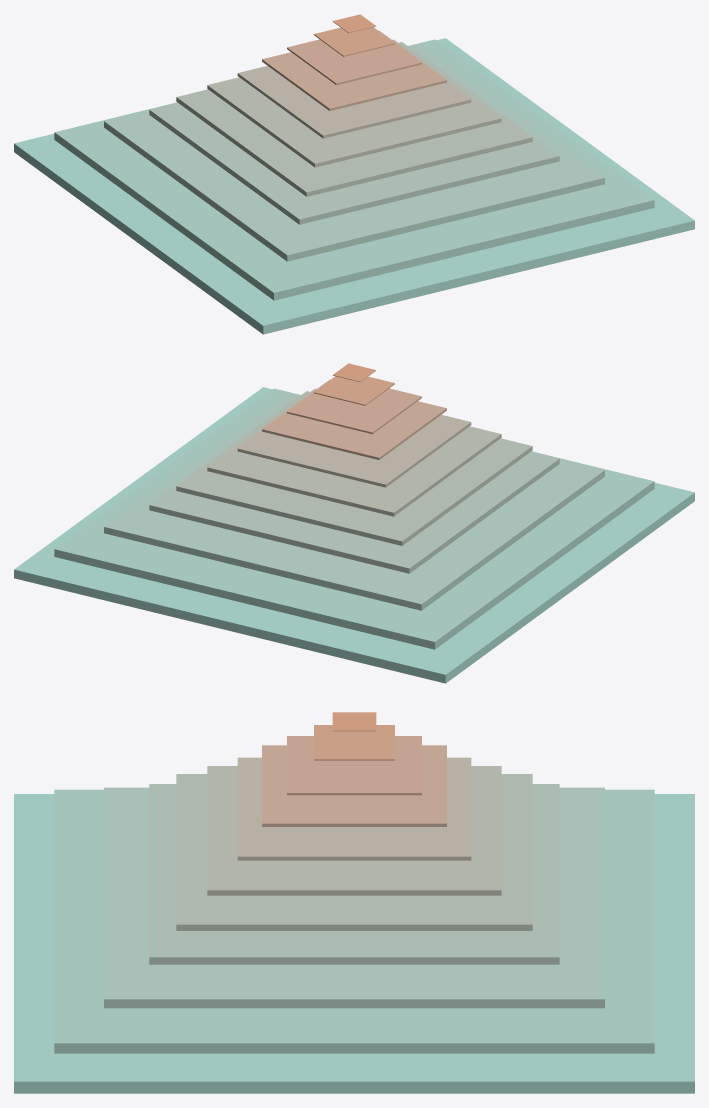
File: building01.fbx
3 views of the same model, one above another, from view 1: azimuth 30°, elevation 25°; view 2: azimuth 150°, elevation 25°; view 3: azimuth 270°, elevation 25° (orthographic). The views are drawn at different scales.
Visible parts, largest first — view 1: pCube68, pCube67, pCube69, pCube70, pCube71, pCube72, pCube73, pCube74, pCube75, pCube76; view 2: pCube68, pCube67, pCube69, pCube70, pCube71, pCube72, pCube73, pCube74, pCube75, pCube76; view 3: pCube68, pCube67, pCube69, pCube70, pCube71, pCube72, pCube73, pCube74, pCube75, pCube76, pCube77.
Part boxes in pixels (bbox=[...]): pCube68: bbox=[54, 39, 654, 300]; pCube67: bbox=[14, 38, 694, 334]; pCube69: bbox=[104, 43, 604, 261]; pCube70: bbox=[149, 46, 559, 224]; pCube71: bbox=[176, 42, 532, 196]; pCube72: bbox=[207, 39, 501, 167]; pCube73: bbox=[237, 66, 471, 138]; pCube74: bbox=[262, 30, 446, 110]; pCube75: bbox=[287, 27, 421, 85]; pCube76: bbox=[314, 27, 394, 56]; pCube68: bbox=[54, 388, 654, 649]; pCube67: bbox=[14, 387, 694, 683]; pCube69: bbox=[104, 392, 604, 610]; pCube70: bbox=[149, 395, 559, 573]; pCube71: bbox=[176, 391, 532, 545]; pCube72: bbox=[207, 388, 501, 516]; pCube73: bbox=[237, 415, 471, 487]; pCube74: bbox=[262, 379, 446, 459]; pCube75: bbox=[287, 376, 421, 434]; pCube76: bbox=[314, 376, 394, 405]; pCube68: bbox=[54, 789, 654, 1053]; pCube67: bbox=[14, 794, 694, 1093]; pCube69: bbox=[104, 787, 604, 1008]; pCube70: bbox=[149, 784, 559, 964]; pCube71: bbox=[176, 774, 532, 930]; pCube72: bbox=[207, 766, 501, 895]; pCube73: bbox=[237, 757, 471, 860]; pCube74: bbox=[262, 745, 446, 826]; pCube75: bbox=[287, 736, 421, 795]; pCube76: bbox=[314, 725, 394, 760]; pCube77: bbox=[332, 712, 376, 731].
Bounding box in the file's own units: 13.12 × 4.85 × 13.12.
